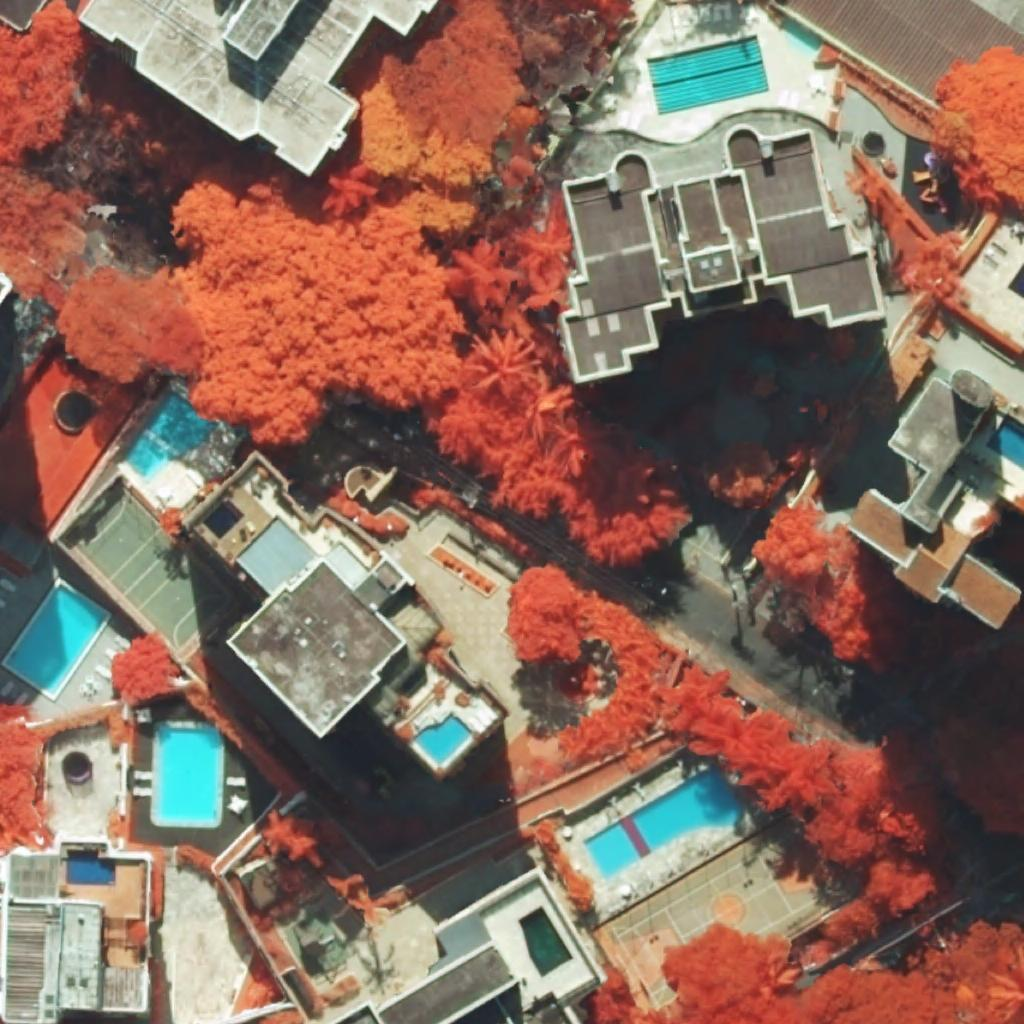pool: (584, 765, 743, 879), (5, 584, 107, 695), (646, 35, 770, 116), (123, 390, 219, 481), (160, 728, 219, 822), (518, 906, 574, 978), (413, 713, 472, 765), (987, 420, 1024, 470), (66, 850, 115, 885), (1008, 265, 1024, 299)
